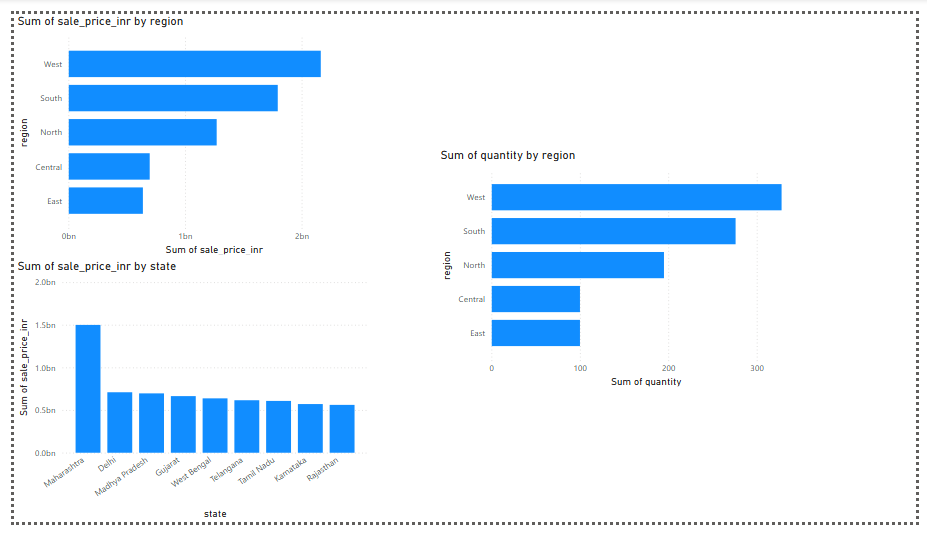

The dashboard page shown, as its layout file describes it:
{"tool":"powerbi","page":{"name":"Geographic analysis","canvas":[1280,720],"ordinal":2},"visuals":[{"type":"clusteredBarChart","fields":{"Category":["gold_dim_dealer.region"],"Y":["Sum(gold_fact_sales.sale_price_inr)"]},"box":[0,0,506.5,345.8],"z":0},{"type":"clusteredColumnChart","fields":{"Category":["gold_dim_dealer.state"],"Y":["Sum(gold_fact_sales.sale_price_inr)"]},"box":[0,345.8,506.5,374.2],"z":1000},{"type":"clusteredBarChart","fields":{"Category":["gold_dim_dealer.region"],"Y":["Sum(gold_fact_sales.quantity)"]},"box":[600.9,189,531,343.9],"z":2000}]}

Visuals, with their boxes on the page's 1280x720 design canvas (x1, y1, x2, y2). These are canvas units, not pixel positions in the 927x538 screenshot, which may show the page scaled, cropped or inside an application window:
clusteredBarChart - gold_dim_dealer.region x Sum(gold_fact_sales.sale_price_inr): region(0, 0, 506, 346)
clusteredColumnChart - gold_dim_dealer.state x Sum(gold_fact_sales.sale_price_inr): region(0, 346, 506, 720)
clusteredBarChart - gold_dim_dealer.region x Sum(gold_fact_sales.quantity): region(601, 189, 1132, 533)
